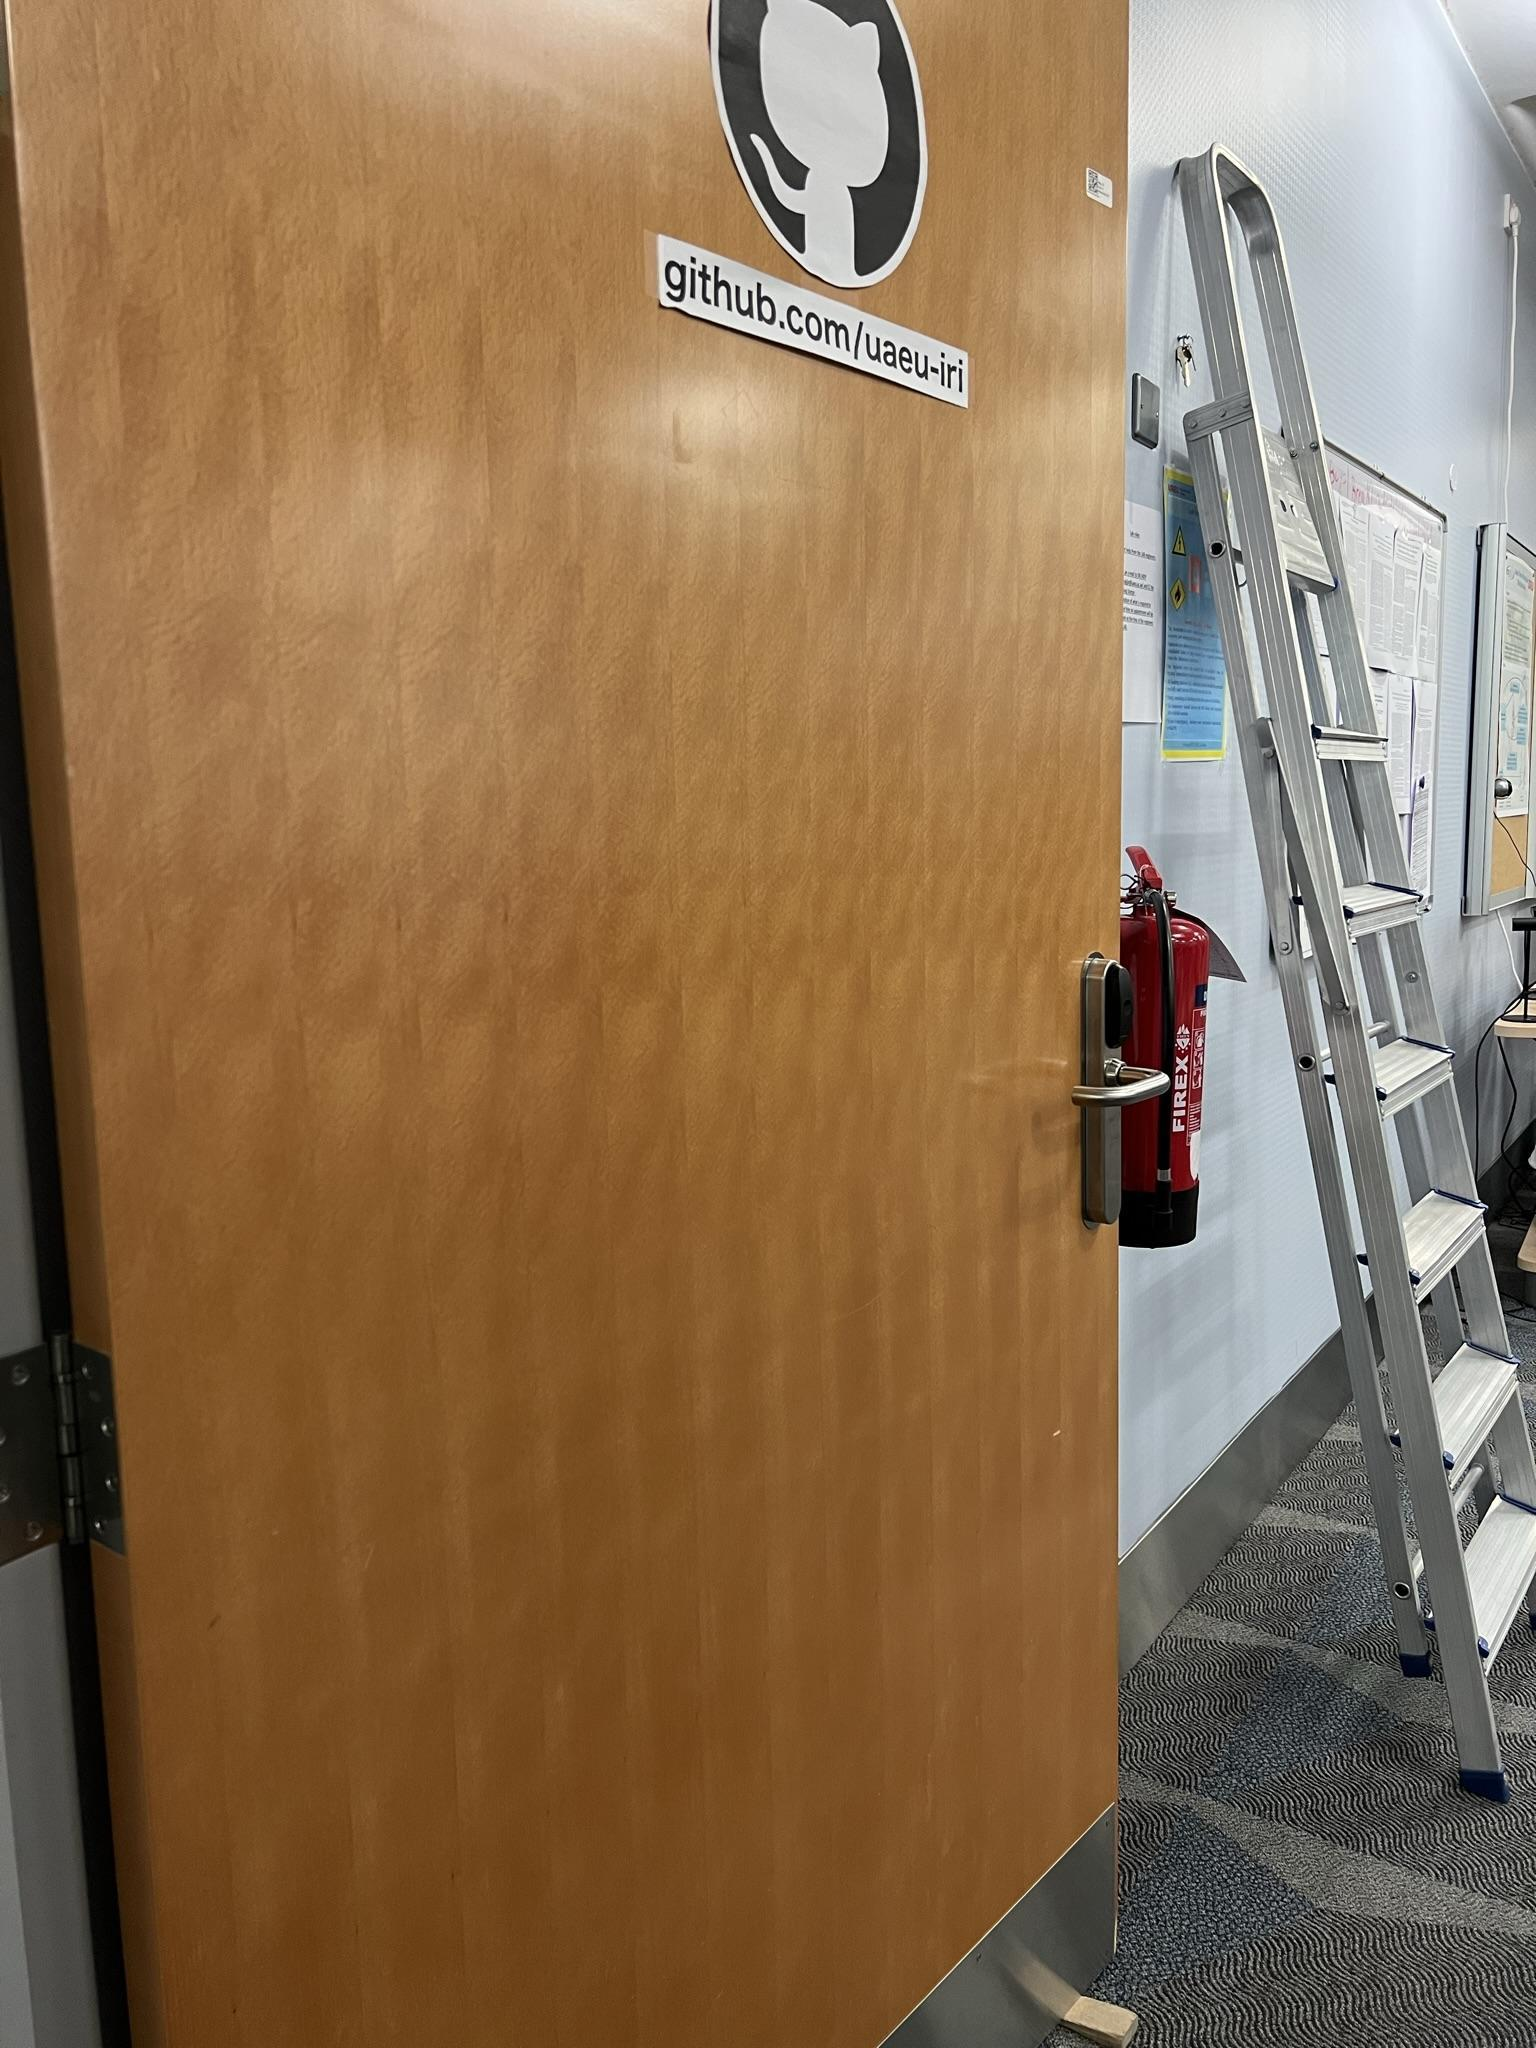door: (0, 0, 1144, 2048)
handle: (1070, 948, 1170, 1232)
